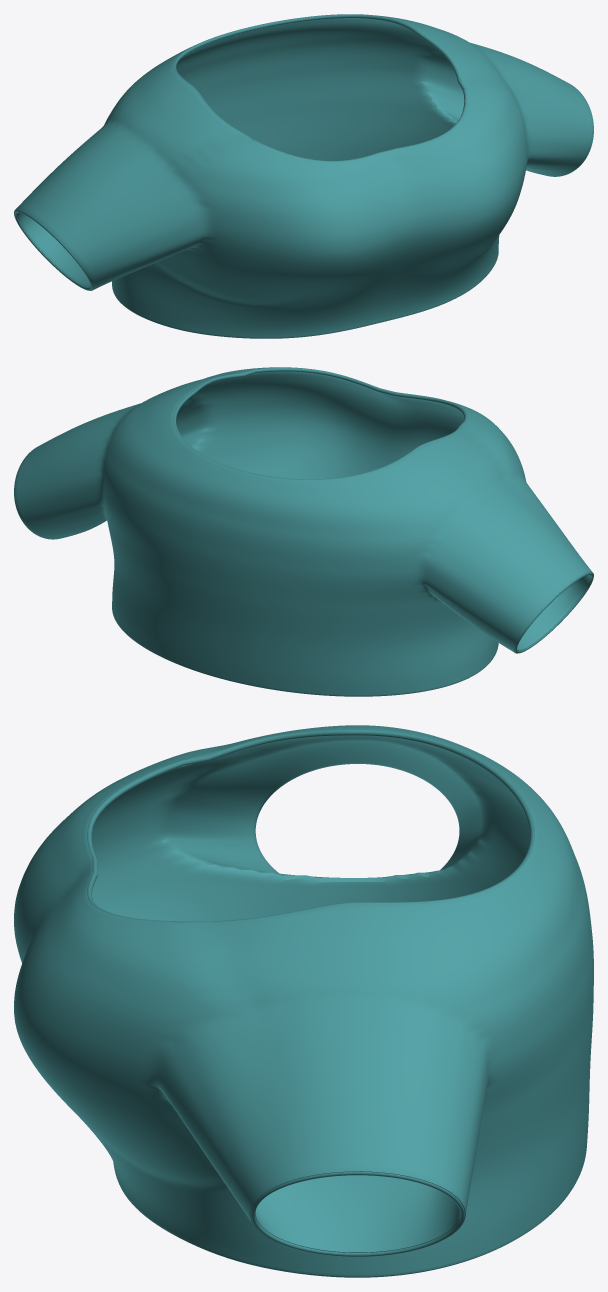
File: Feminine-tshirt-top.glb
3 renders of one model, top to bottom at view 1: azimuth 30°, elevation 25°; view 2: azimuth 150°, elevation 25°; view 3: azimuth 270°, elevation 25°, orthographic. The views are drawn at different scales.
Visible parts, largest first — view 1: Clothing / tshirt, Neckline / fitted crew export, Sleeve / soft cuff -1 export; view 2: Clothing / tshirt, Neckline / fitted crew export, Sleeve / soft cuff -1 export; view 3: Clothing / tshirt, Neckline / fitted crew export, Sleeve / soft cuff 1 export.
Boxes of the visible parts, x1,y1,x2,y2 form: Clothing / tshirt: (14, 15, 593, 338); Neckline / fitted crew export: (173, 14, 466, 161); Sleeve / soft cuff -1 export: (14, 210, 92, 290); Clothing / tshirt: (14, 367, 593, 696); Neckline / fitted crew export: (173, 367, 466, 480); Sleeve / soft cuff -1 export: (514, 572, 593, 653); Clothing / tshirt: (14, 725, 593, 1276); Neckline / fitted crew export: (87, 729, 534, 923); Sleeve / soft cuff 1 export: (251, 1171, 464, 1256).
Bounding box in the file's own units: 0.9345 × 0.3438 × 0.5531.
